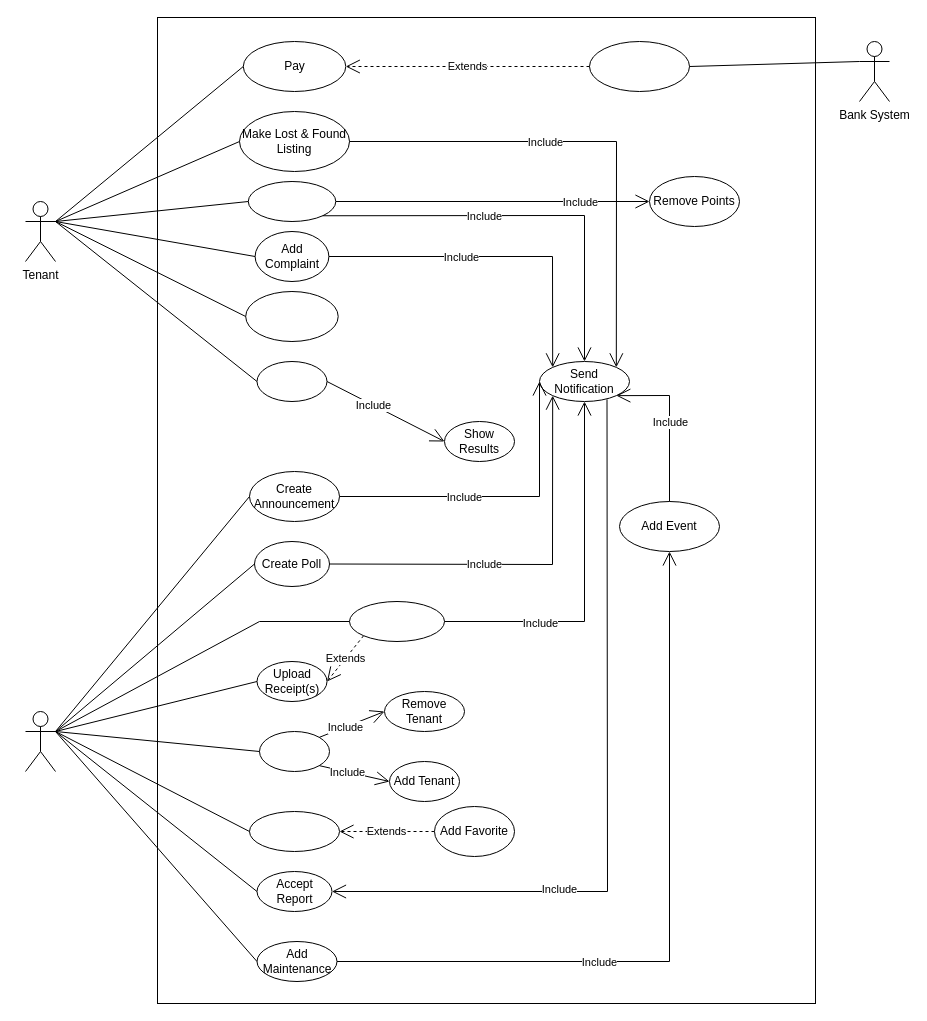
Image size: 927x1021. Some labels were removed from this diagram. The centre of each missing label's shape, as x and y in pixels:
Accept payment: point (639, 66)
Change Tenant: point (294, 751)
Issue Common Charges: point (396, 621)
Make Reservation: point (291, 201)
Manager: point (40, 741)
View Announcments: point (291, 316)
Visit Marketplace: point (294, 831)
Vote: point (291, 381)
